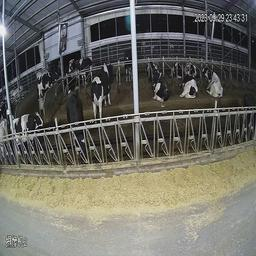cow: (58, 81, 90, 171), (5, 104, 46, 154), (88, 61, 116, 129), (146, 54, 172, 110), (201, 63, 224, 104), (35, 66, 61, 100), (240, 91, 255, 149), (179, 74, 199, 107), (67, 53, 91, 79), (120, 49, 133, 85), (186, 60, 198, 79), (174, 56, 184, 76)
